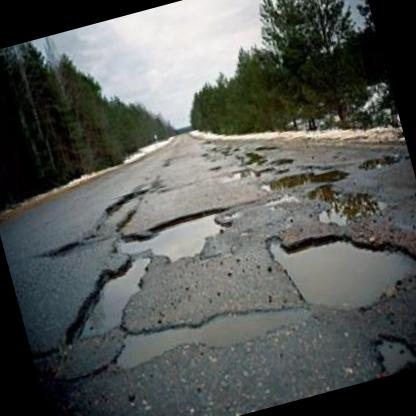pothole: (259, 192, 416, 332), (105, 281, 312, 380), (45, 250, 168, 346), (110, 204, 238, 278), (304, 168, 387, 232), (256, 155, 349, 199), (89, 184, 156, 238), (369, 322, 416, 376), (355, 146, 403, 172), (41, 234, 85, 262)
